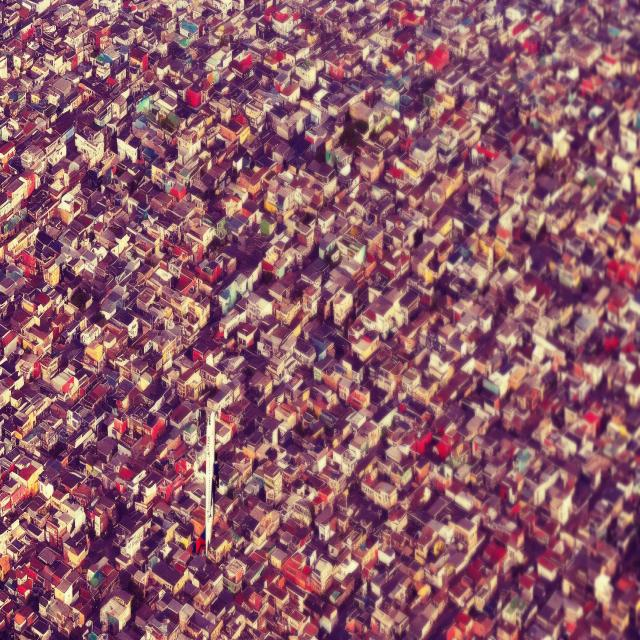airplane: (205, 410, 216, 557)
